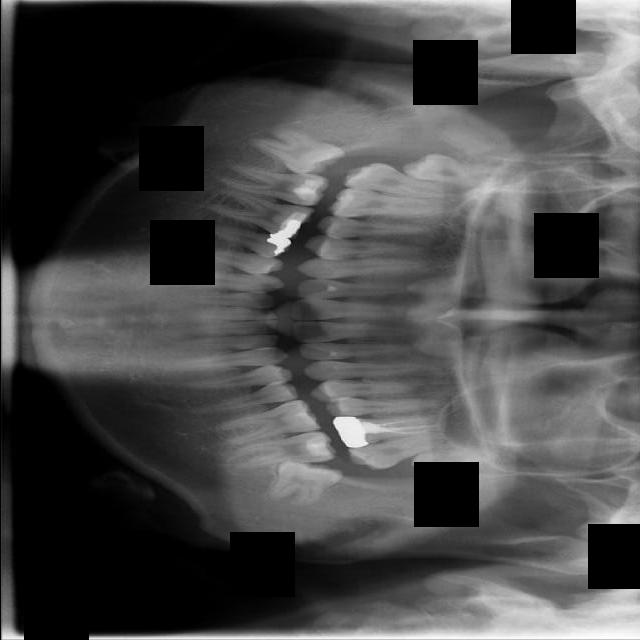3M ESPE Implant: (400, 148, 508, 193)
52: (259, 203, 310, 260), (330, 408, 371, 454), (289, 172, 328, 207), (303, 431, 336, 464), (326, 286, 337, 293), (328, 351, 337, 356)
73: (358, 403, 445, 446), (94, 580, 100, 599)
BioHorizons Implant: (345, 428, 455, 476)
BioLife Implant: (410, 439, 499, 482)
Biomet 3i Implant: (266, 453, 343, 516)
Blue Sky Bio Implant: (229, 429, 338, 471)
Caries: (341, 157, 454, 203)
Implant: (218, 161, 329, 210)
Keystone Dental Implant: (247, 114, 346, 189)
